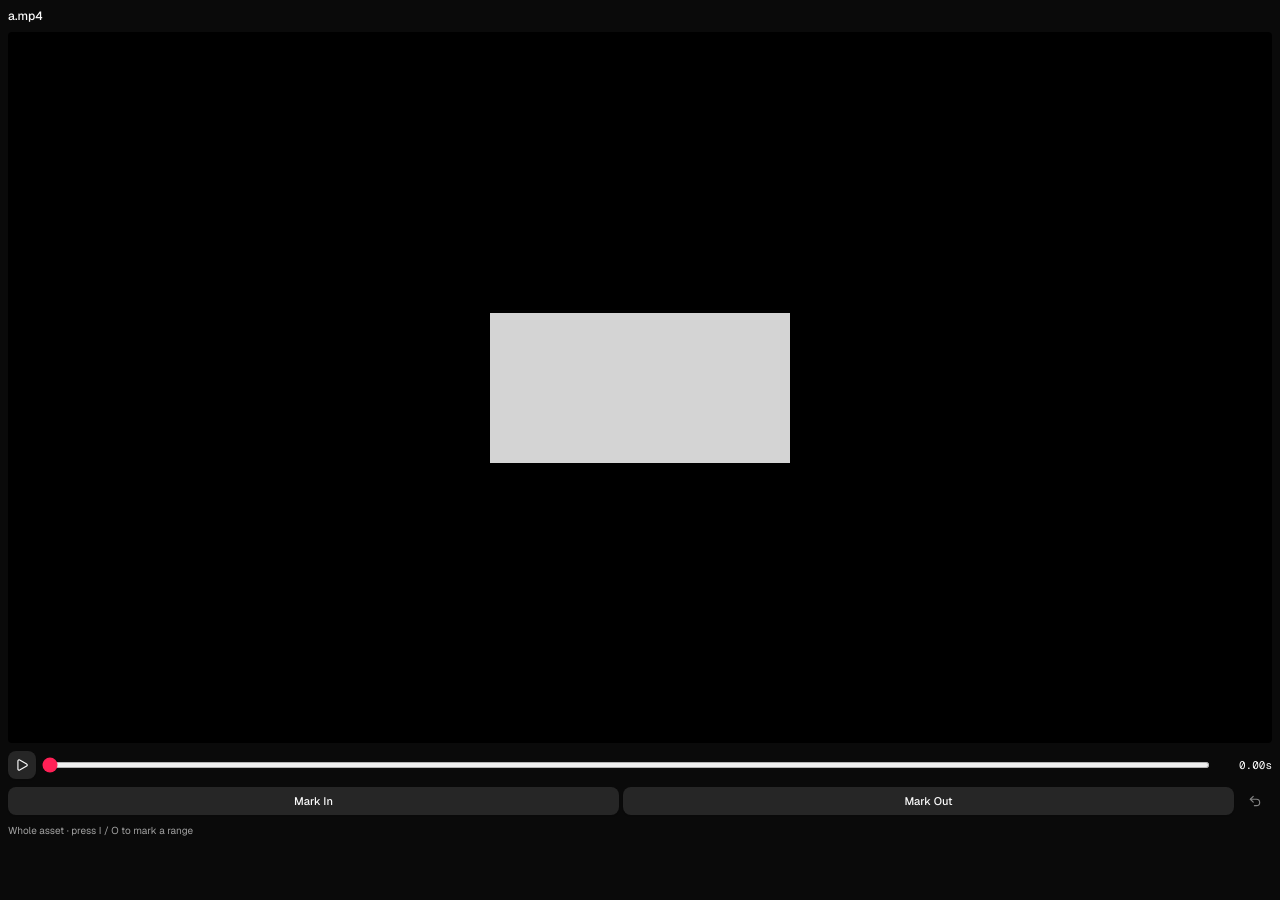
Test case: Source monitor (three-point editing, 0.7.2) › the transport play button mirrors the element state
Click the button named "Play source": (22, 765) [8, 751, 36, 779]
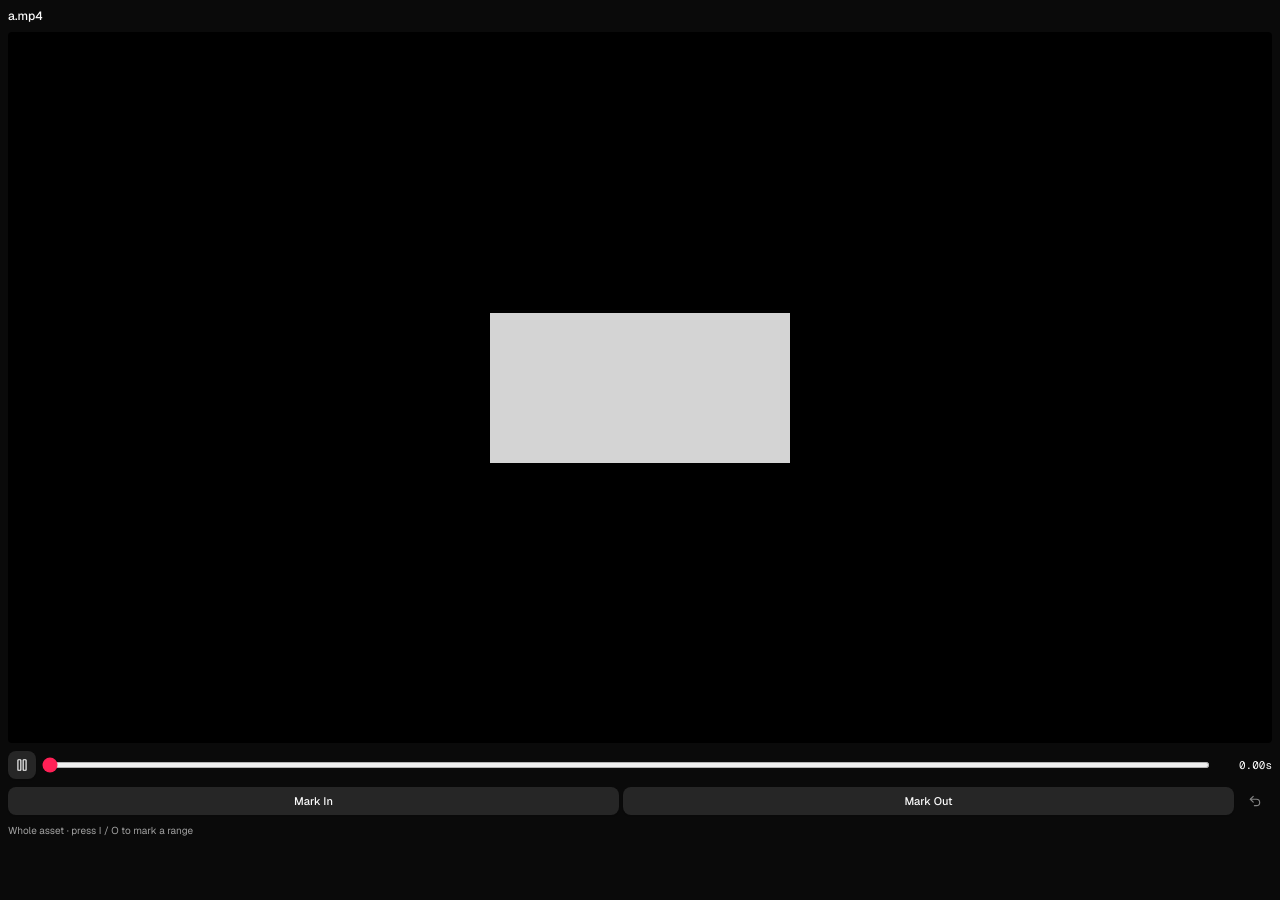
Now the button named "Pause source" is shown
Click the button named "Pause source": (22, 765) [8, 751, 36, 779]
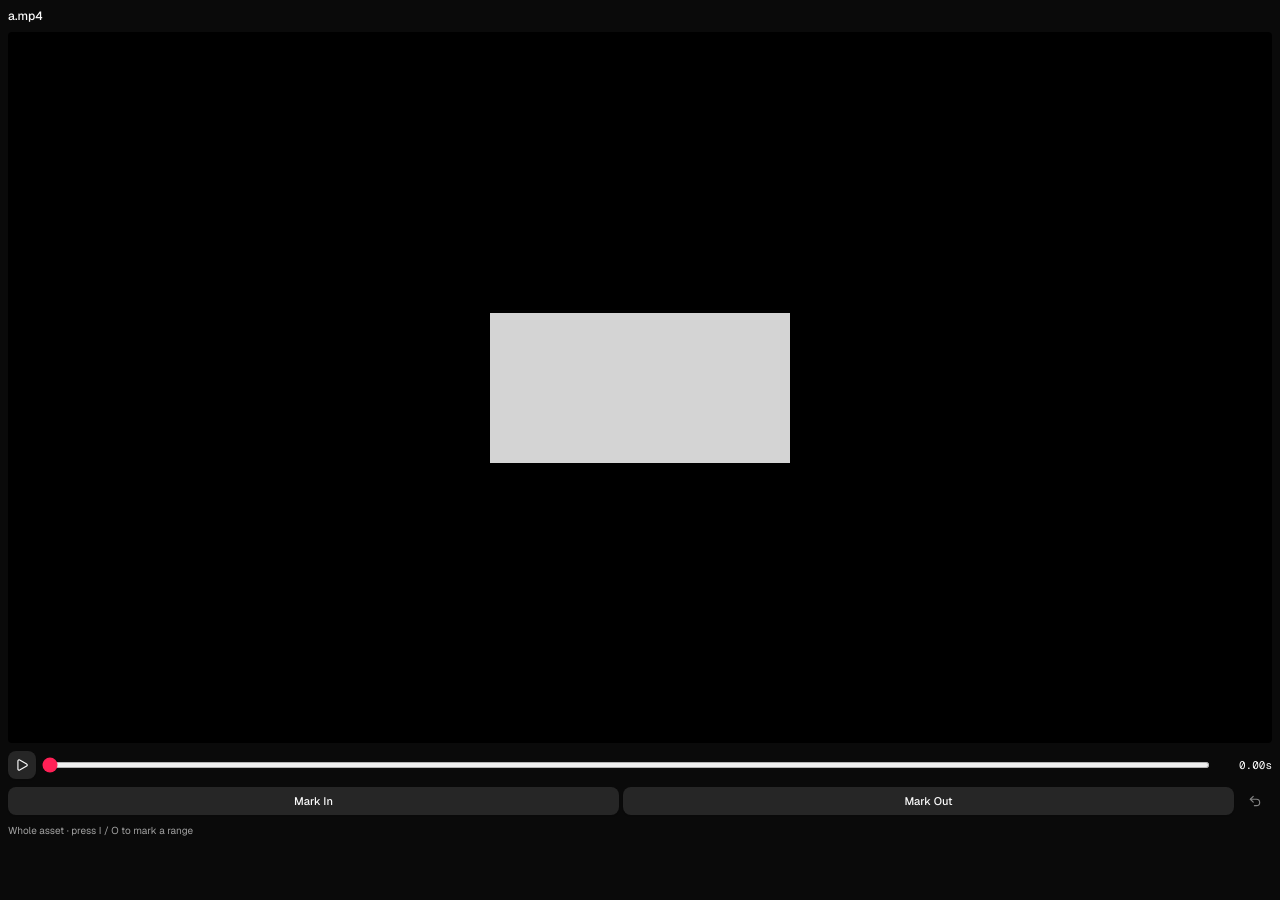
Now the button named "Play source" is shown, box [8, 751, 36, 779]
